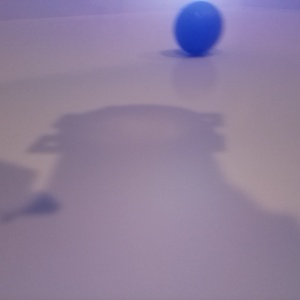dead_ball: (173, 1, 224, 56)
